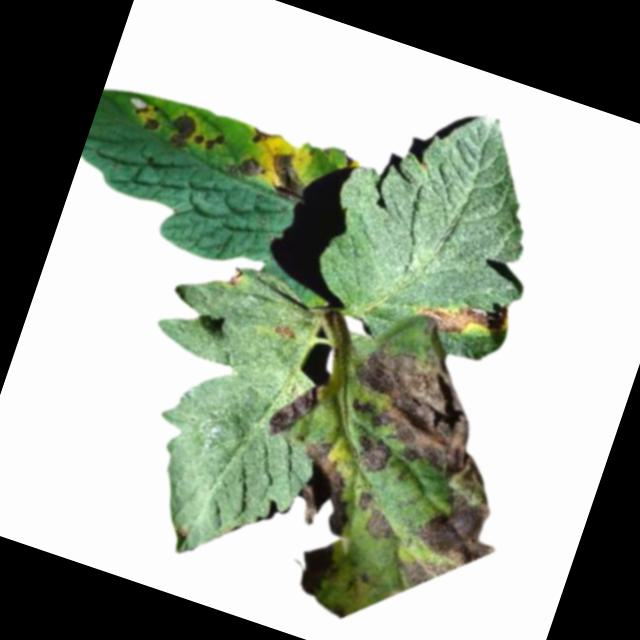Early_blight: (299, 325, 552, 608), (275, 435, 370, 543), (410, 274, 514, 351), (263, 371, 322, 445), (290, 534, 340, 599), (348, 486, 403, 545), (259, 149, 312, 205), (347, 433, 395, 481), (124, 92, 166, 135), (164, 108, 198, 150), (224, 149, 262, 182), (191, 125, 226, 152), (268, 320, 301, 345), (248, 121, 278, 148), (223, 261, 246, 291)
